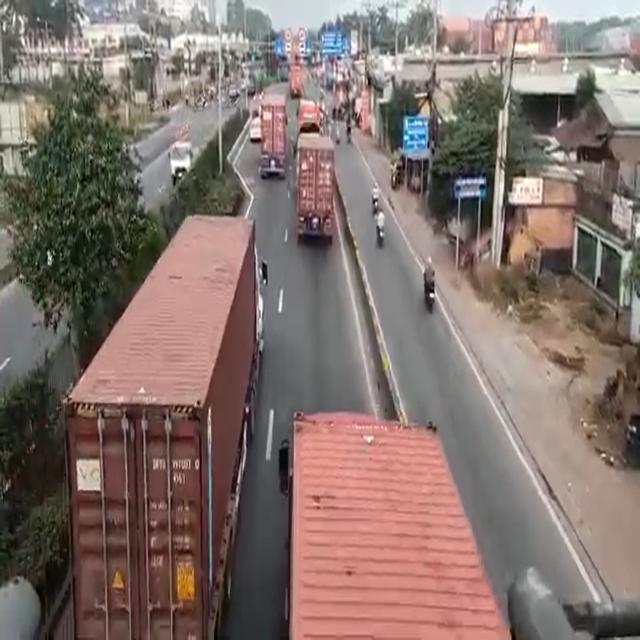truck: (62, 204, 260, 640), (280, 410, 506, 639), (294, 133, 336, 247), (259, 97, 287, 182)
